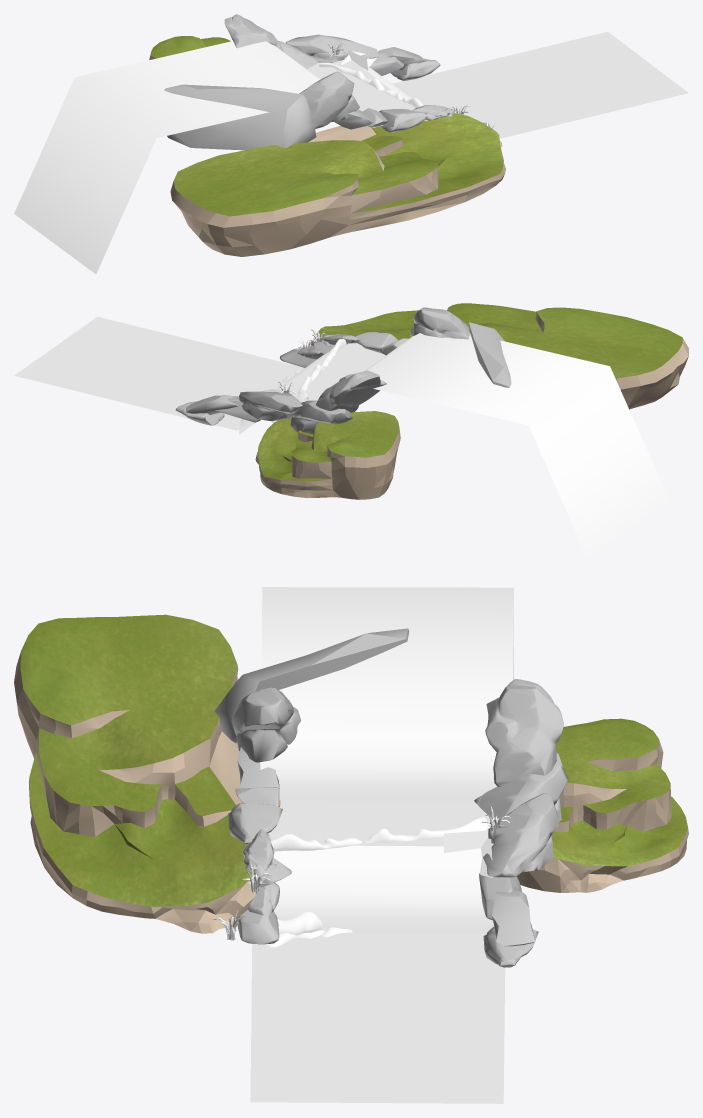
Rendered from waterfall.gltf.
The picture shows the model from 3 angles, top to bottom: view 1: azimuth 30°, elevation 25°; view 2: azimuth 150°, elevation 25°; view 3: azimuth 270°, elevation 25°; orthographic projection. The views are drawn at different scales.
Visible parts, largest first — view 1: Waterfall Plateaus 01, Overhead waterfall 01, Ground waterfall 01, Rocks 18, Rocks 11, Al-Wasat Waterfall 01, Waterfall waves 06, Rocks 04, Waterfall Plateaus 02, Rocks 14, Water foam 01, Rocks 15 (+4 smaller); view 2: Overhead waterfall 01, Ground waterfall 01, Waterfall Plateaus 01, Waterfall Plateaus 02, Al-Wasat Waterfall 01, Rocks 04, Rocks 18, Waterfall waves 06, Rocks 11, Rocks 12, Rocks 17, Water foam 01 (+4 smaller); view 3: Waterfall Plateaus 01, Overhead waterfall 01, Ground waterfall 01, Waterfall Plateaus 02, Lower waterfall 01, Al-Wasat Waterfall 01, Rocks 04, Rocks 18, Waterfall waves 06, Rocks 11, Rocks 12, Water foam 01 (+8 smaller).
Boxes of the visible parts, x1,y1,x2,y2 form: Waterfall Plateaus 01: (170, 113, 505, 256); Overhead waterfall 01: (14, 41, 358, 274); Ground waterfall 01: (392, 31, 688, 138); Rocks 18: (164, 84, 316, 150); Rocks 11: (299, 71, 359, 128); Al-Wasat Waterfall 01: (307, 57, 415, 127); Waterfall waves 06: (285, 34, 378, 62); Rocks 04: (224, 14, 283, 51); Waterfall Plateaus 02: (149, 36, 230, 59); Rocks 14: (379, 109, 427, 132); Water foam 01: (319, 62, 423, 107); Rocks 15: (390, 58, 440, 80); Overhead waterfall 01: (365, 333, 668, 558); Ground waterfall 01: (14, 316, 304, 430); Waterfall Plateaus 01: (310, 303, 688, 409); Waterfall Plateaus 02: (255, 411, 400, 499); Al-Wasat Waterfall 01: (281, 343, 385, 402); Rocks 04: (316, 370, 386, 412); Rocks 18: (469, 322, 511, 387); Waterfall waves 06: (239, 391, 302, 420); Rocks 11: (410, 307, 469, 339); Rocks 12: (290, 400, 352, 434); Rocks 17: (186, 395, 238, 414); Water foam 01: (297, 338, 346, 401); Waterfall Plateaus 01: (14, 614, 280, 933); Overhead waterfall 01: (260, 587, 513, 800); Ground waterfall 01: (250, 933, 505, 1103); Waterfall Plateaus 02: (517, 718, 688, 892); Lower waterfall 01: (273, 845, 494, 933); Al-Wasat Waterfall 01: (268, 800, 494, 846); Rocks 04: (485, 679, 563, 786); Rocks 18: (214, 628, 409, 743); Waterfall waves 06: (483, 793, 557, 878); Rocks 11: (231, 687, 301, 762); Rocks 12: (474, 752, 568, 833); Water foam 01: (271, 816, 489, 851).
Size of the model in its own units: 38.36 by 8.56 by 24.96.
